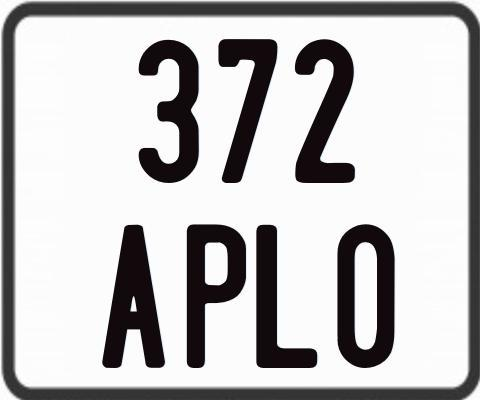0: (337, 222, 398, 366)
2: (294, 38, 359, 188)
3: (136, 37, 199, 181)
7: (218, 38, 283, 182)
A: (100, 223, 165, 366)
L: (255, 224, 316, 373)
P: (184, 224, 248, 372)
